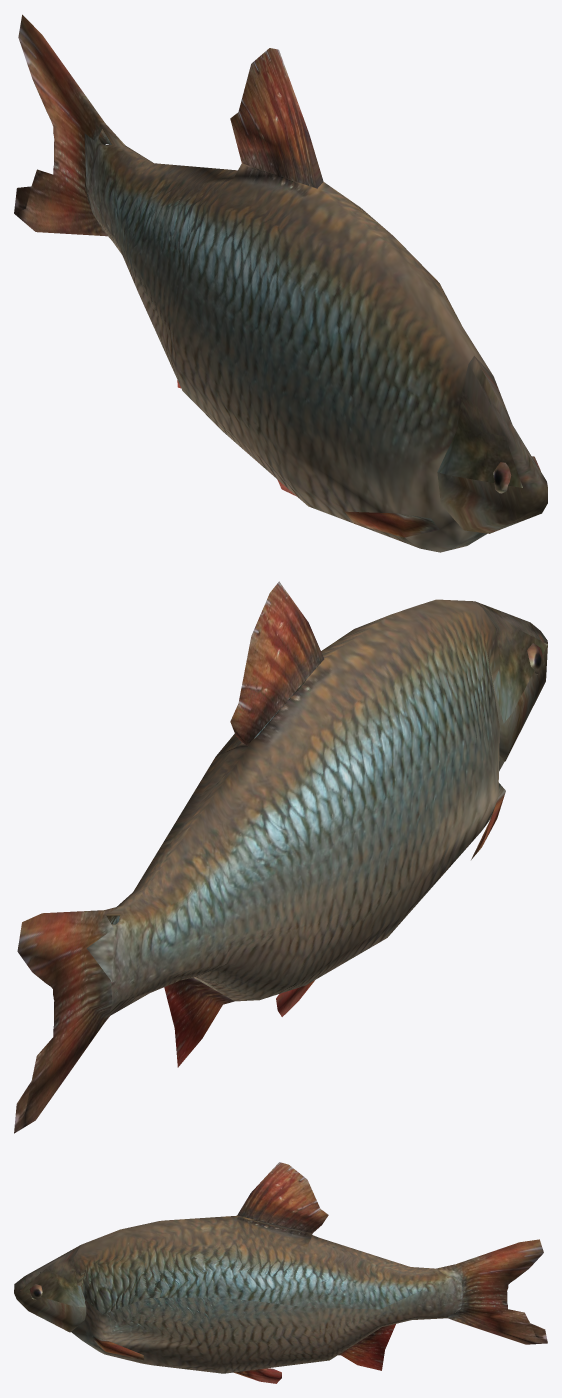
File: Rudd_Fish.obj
The picture shows the model from 3 angles, top to bottom: view 1: azimuth 30°, elevation 25°; view 2: azimuth 150°, elevation 25°; view 3: azimuth 270°, elevation 25°; orthographic projection. The views are drawn at different scales.
Visible parts, largest first — view 1: Rudd-Fish_Cube.001; view 2: Rudd-Fish_Cube.001; view 3: Rudd-Fish_Cube.001.
Boxes of the visible parts, bbox=[...] form: Rudd-Fish_Cube.001: bbox=[14, 14, 547, 552]; Rudd-Fish_Cube.001: bbox=[14, 581, 547, 1133]; Rudd-Fish_Cube.001: bbox=[14, 1162, 547, 1383].
Bounding box in the file's own units: 14.48 × 44.11 × 96.18.
